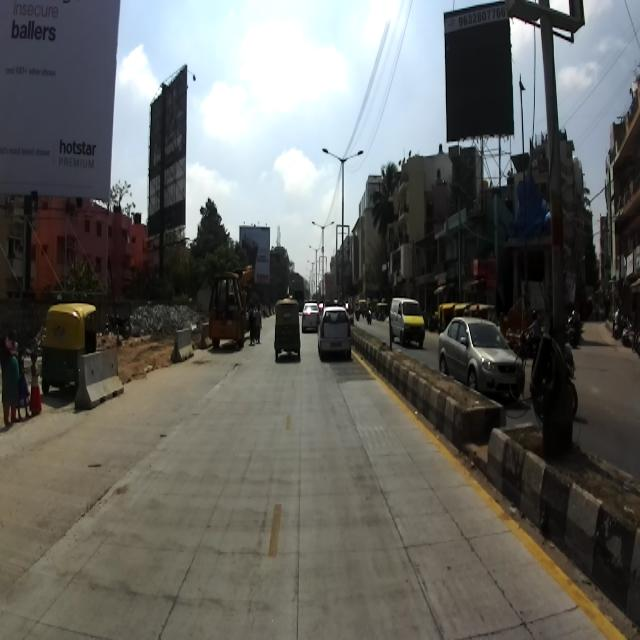auto ahead at: (36, 301, 92, 394), (272, 297, 304, 373)
barrier ahead at: (74, 344, 131, 412)
car ahead at: (314, 303, 356, 364)
person ahead at: (0, 328, 34, 429)
truck ahead at: (205, 262, 262, 353)
